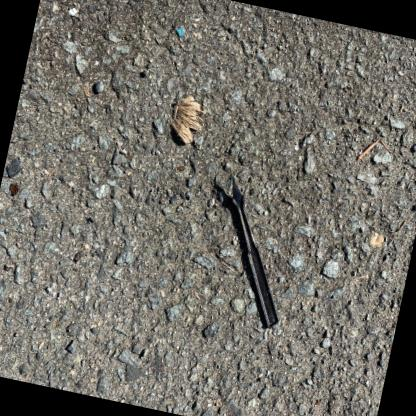Glass: (10, 183, 19, 195), (74, 252, 81, 261), (314, 399, 319, 404), (56, 322, 59, 326)
Plastic: (232, 175, 278, 328), (68, 8, 77, 16), (176, 27, 184, 36)
